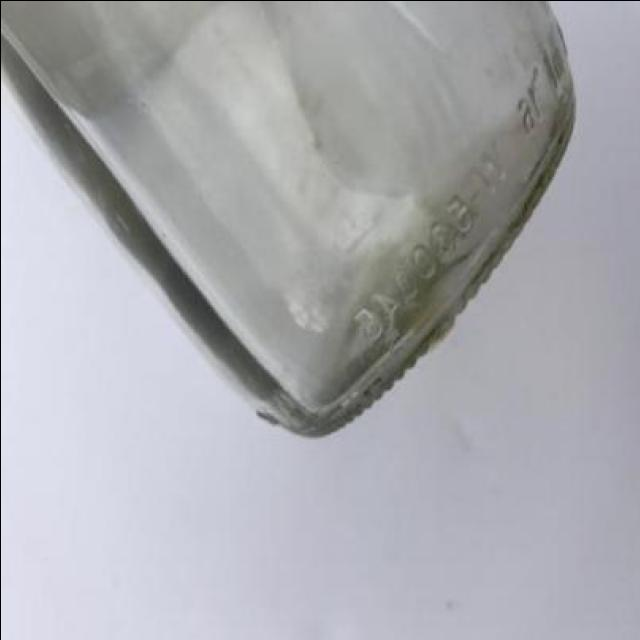kaca: (0, 0, 573, 437)
